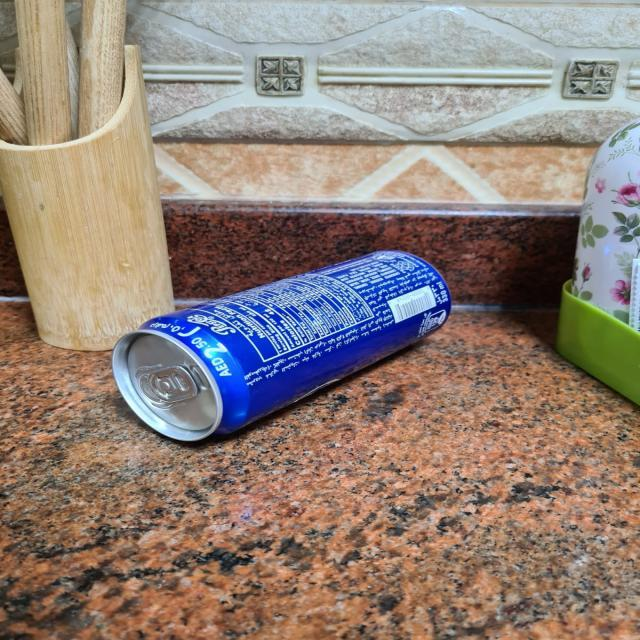can: (114, 246, 468, 444)
